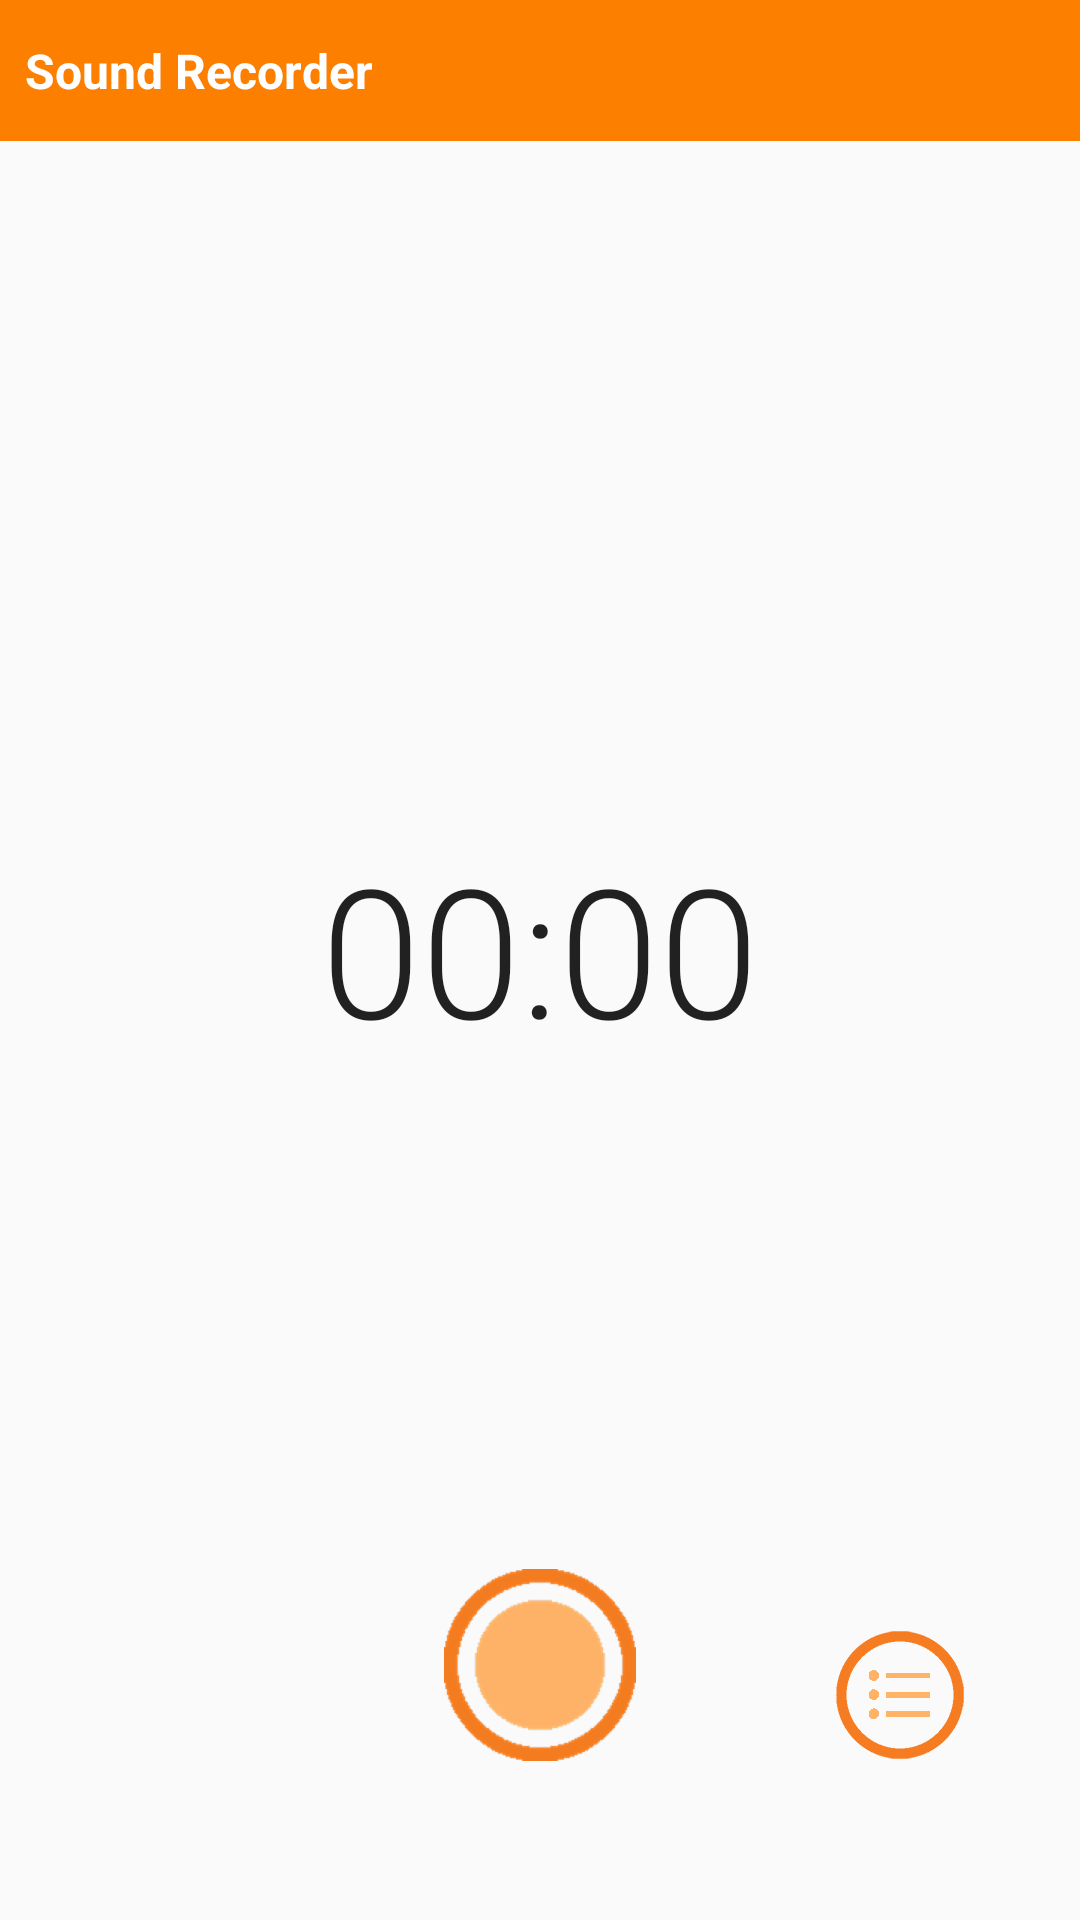

Icon click points for this 1080×1920 phone screenshot, format point (x, y):
record list: point (900, 1695)
record play: point (540, 1665)
